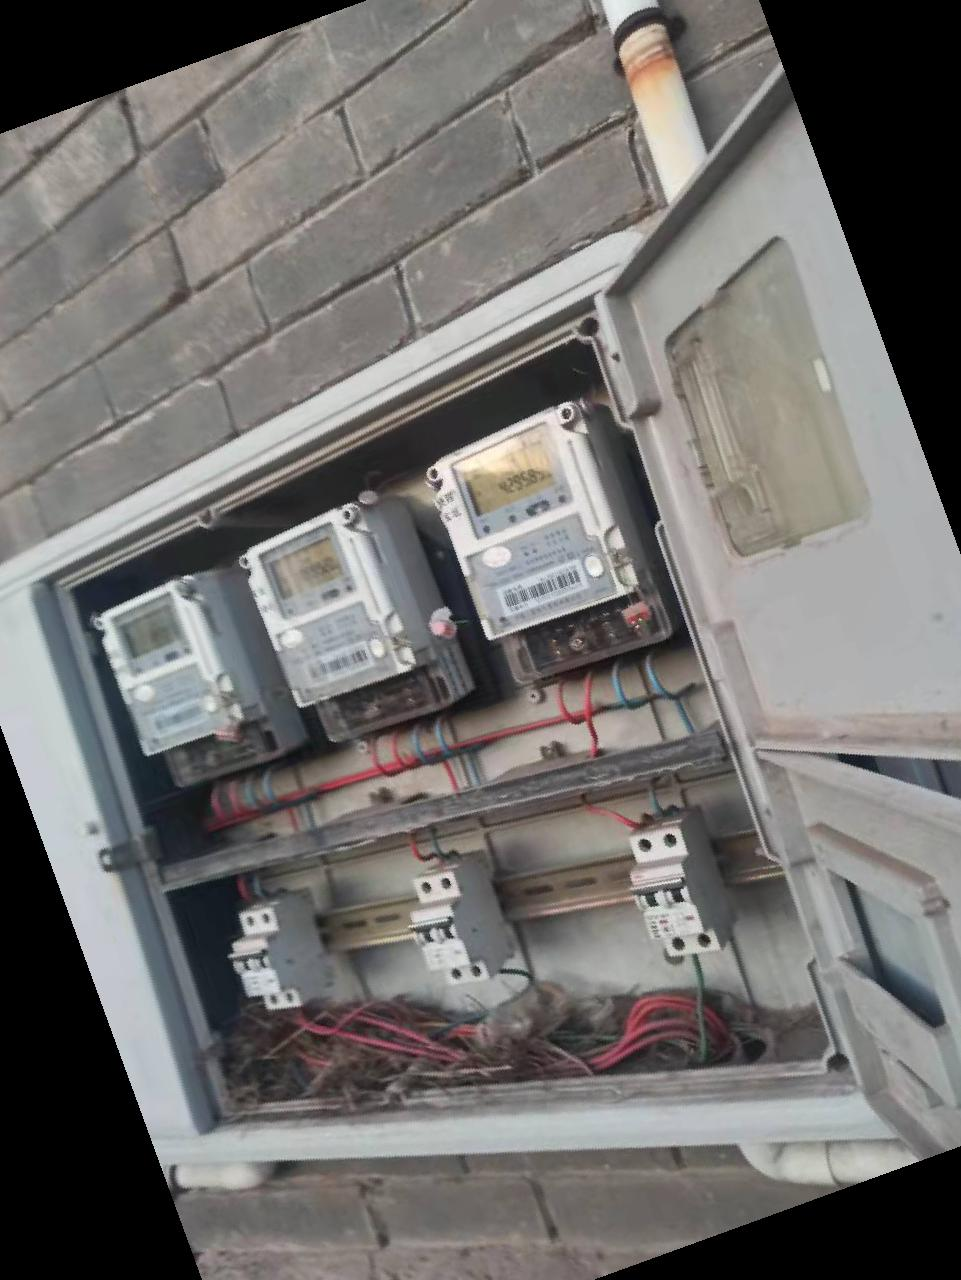digital: (429, 404, 635, 643), (248, 502, 411, 707), (97, 582, 245, 759)
